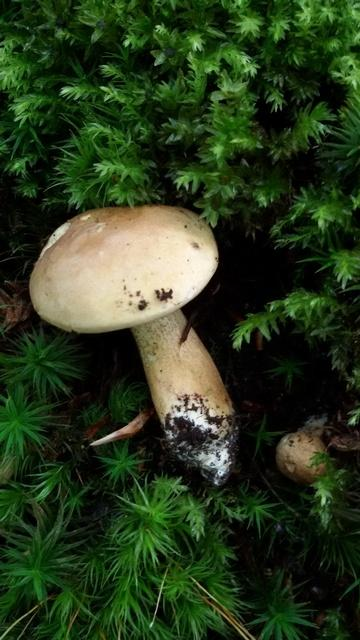poisonous_mushroom: (28, 202, 240, 487)
